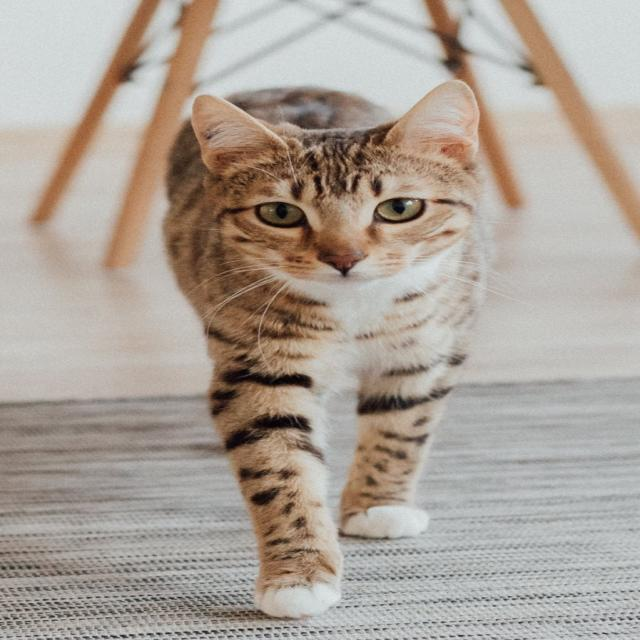cat: (145, 74, 501, 622)
